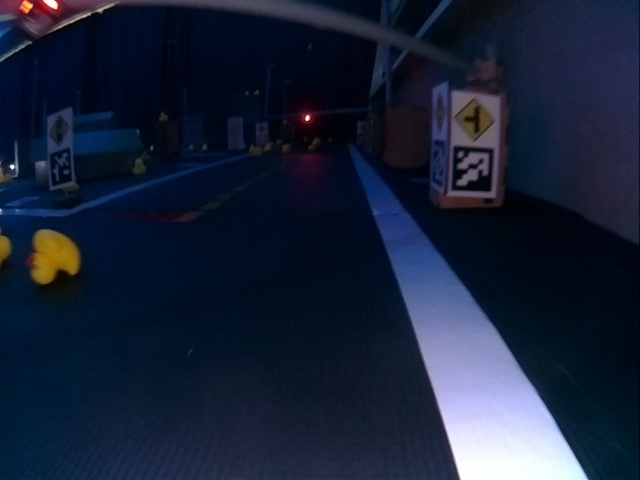Duckie: (29, 229, 81, 284), (133, 161, 146, 175)
Intersection sign: (452, 92, 499, 142)
QR code: (450, 152, 494, 195), (430, 138, 447, 191), (50, 151, 73, 186)
Signal sign: (48, 114, 71, 146)
Traffic light: (303, 113, 312, 122)
